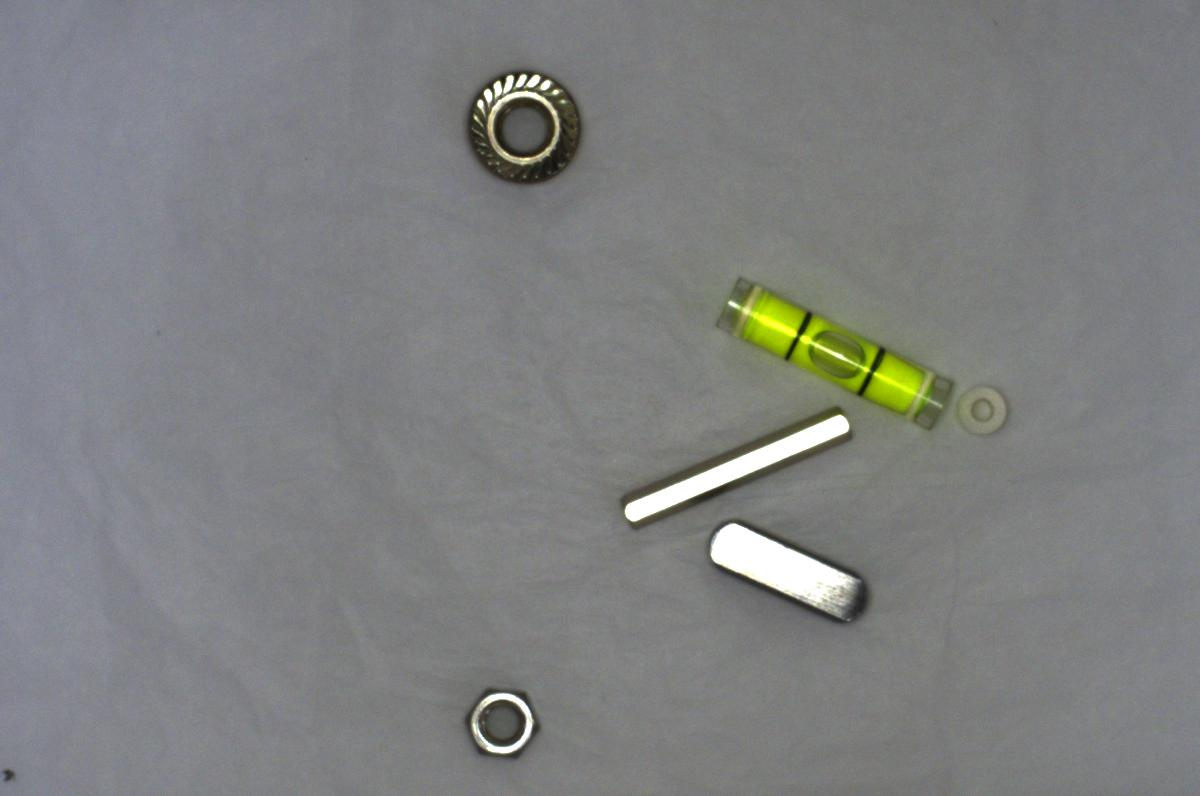Double hexagonal column: (619, 400, 852, 535)
Flange nut: (460, 64, 587, 190)
Hexagon nut: (458, 676, 542, 762)
Horizontal bubble: (710, 267, 958, 435)
Keybar: (701, 512, 879, 624)
Plastic cushion pillar: (956, 373, 1017, 444)
